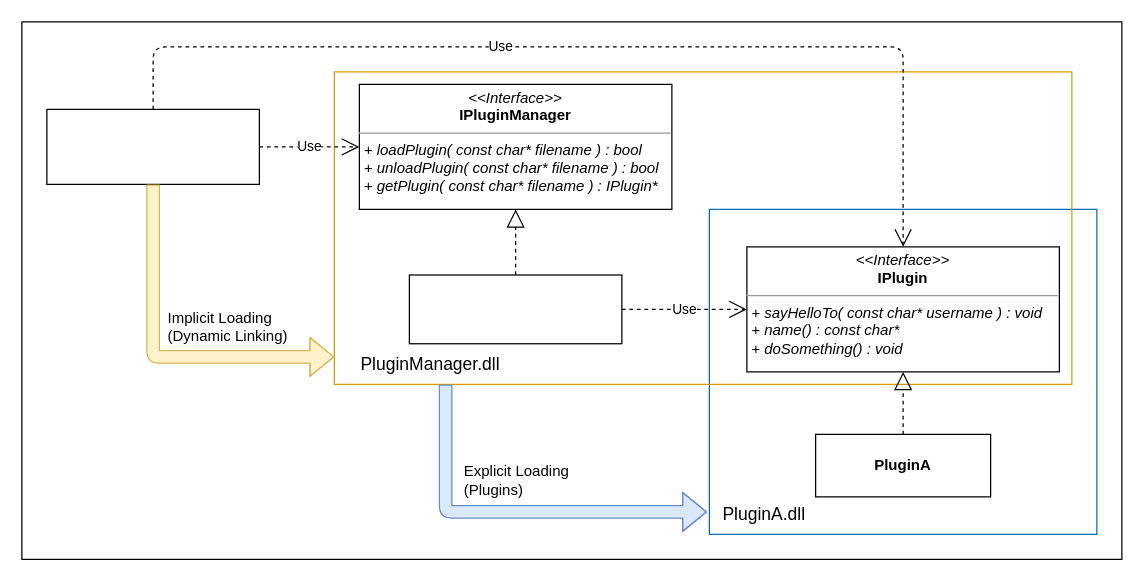
Image size: 1144x581. Some labels were removed from this diagram. The centre of each missing label's shape, as x and y in pixels:
main.cpp (App.exe): point 152,146
PluginManager: point 515,309
